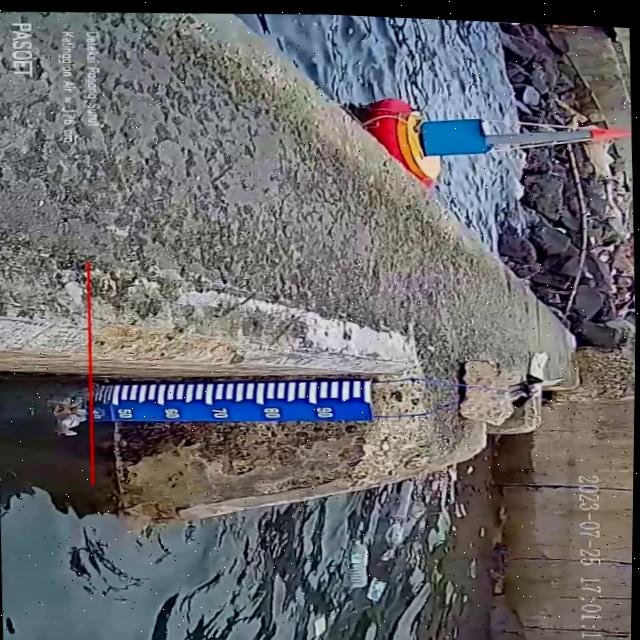water-meter: (89, 360, 388, 442)
